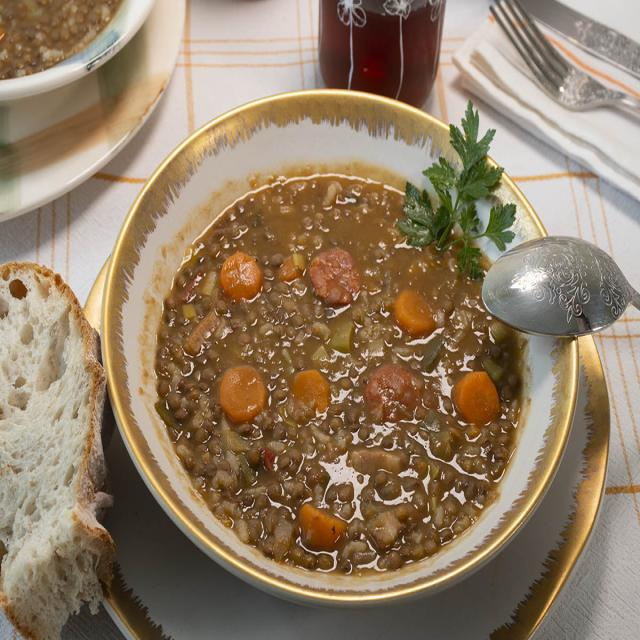lentejas: (144, 132, 535, 564)
